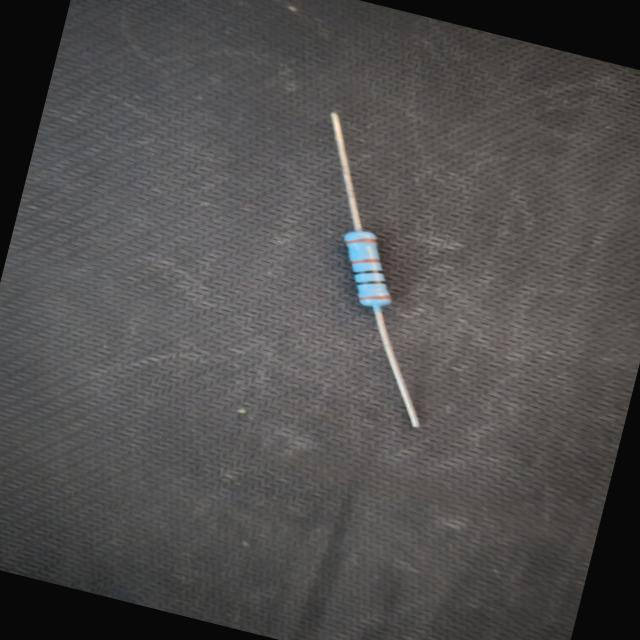resistor: (248, 98, 508, 442)
